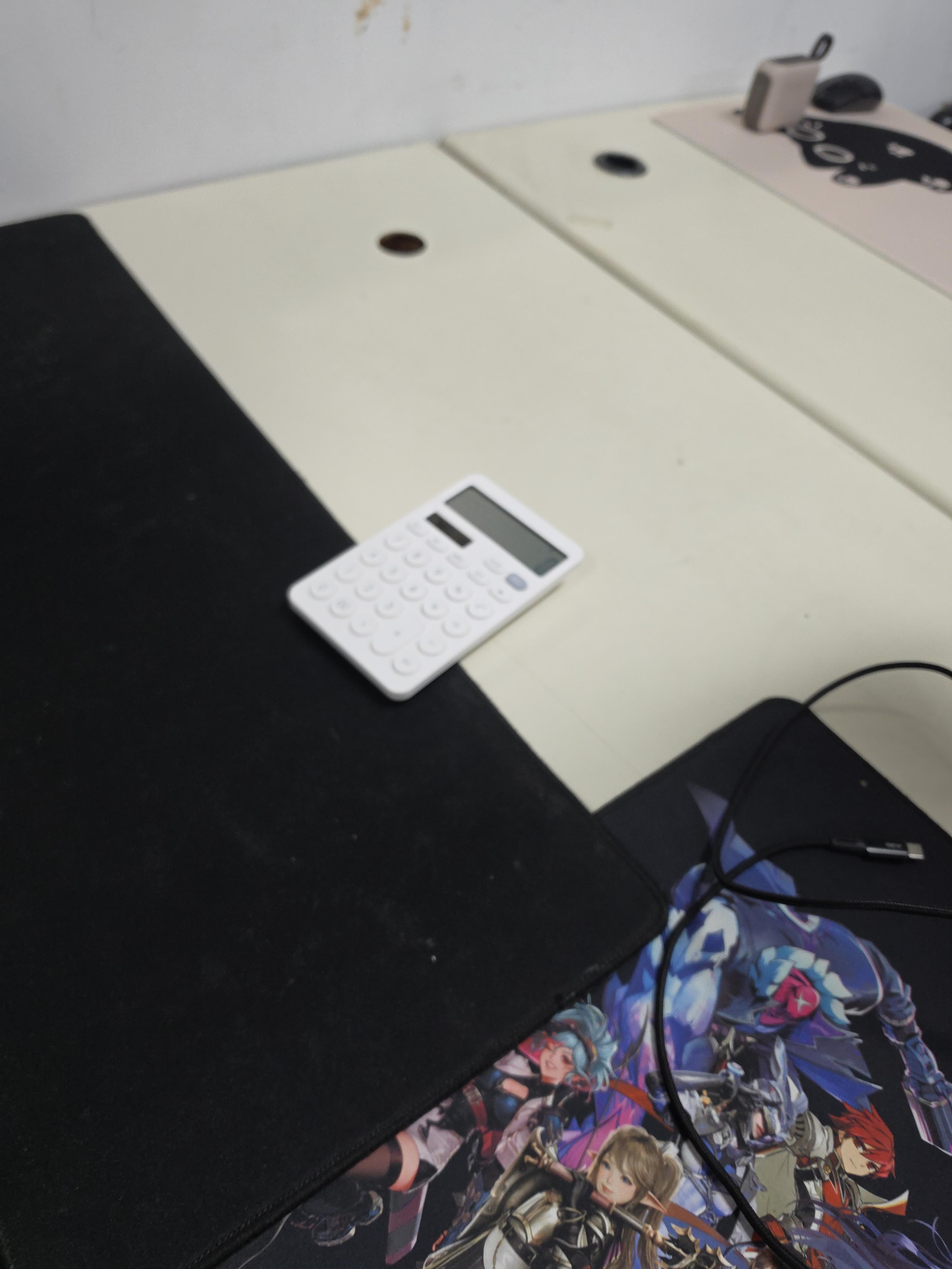calculator: (285, 473, 585, 702)
